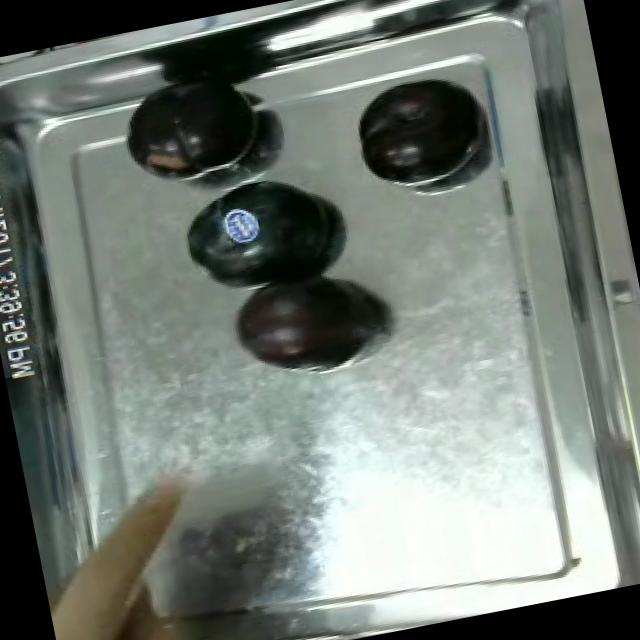Fruit: (166, 162, 344, 306), (109, 61, 278, 198), (220, 256, 392, 382), (341, 66, 491, 198), (40, 529, 213, 640)
